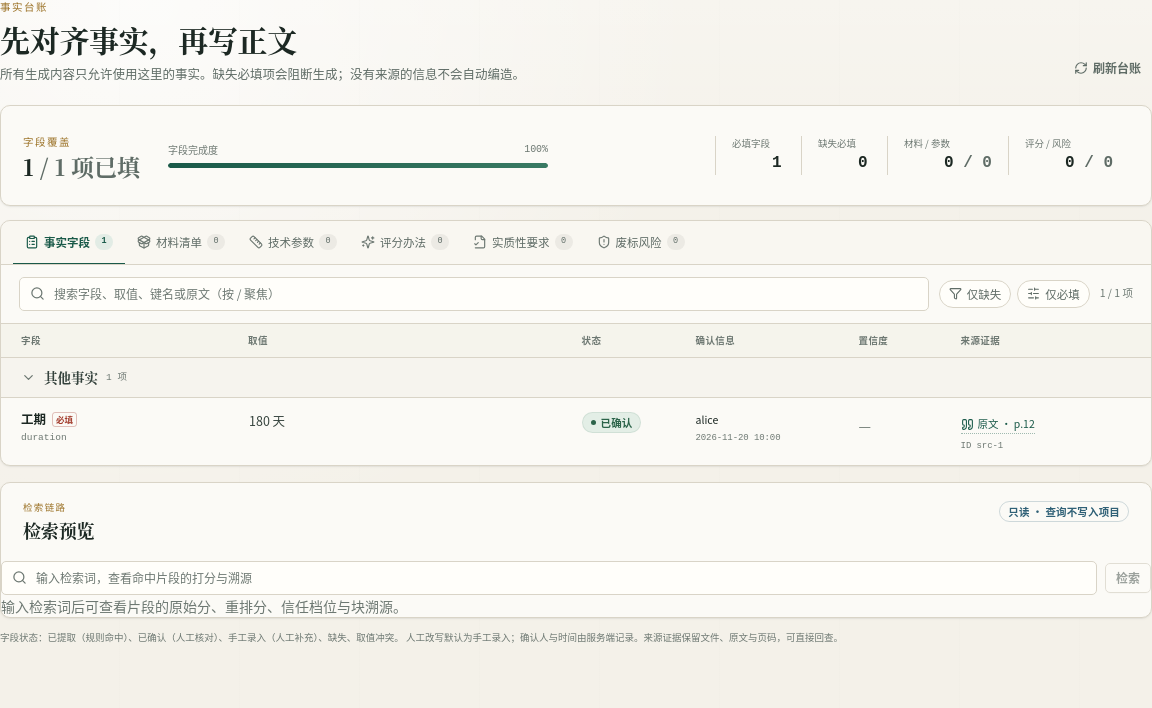
Test: LedgerTab 事实治理 › 编辑默认手工录入，要求来源证据，并把服务端盖章回写到表格
The image size is (1152, 708).
Expected: the text "工期" is shown, [21,410,46,428]
Click the button "180 天" at (267, 421), box [242,407,574,436]
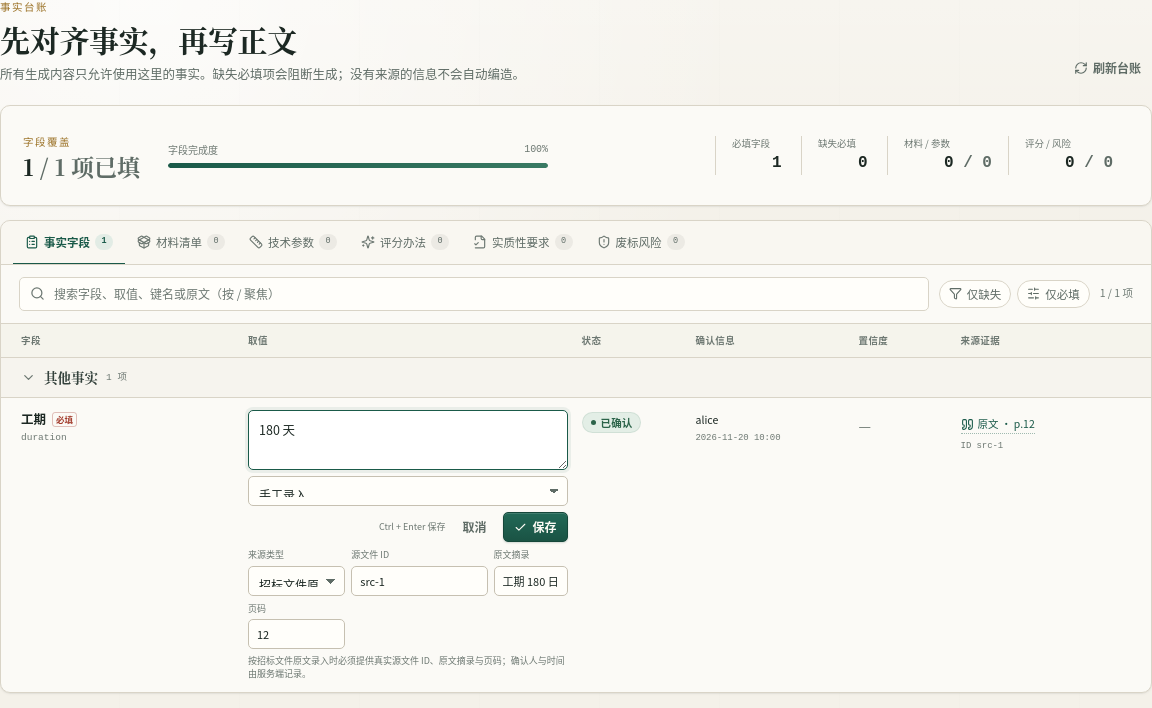
Result: the dropdown named "事实状态" shows "手工录入" at [248,476,568,506]
Result: the field named "来源文件 ID：工期" is shown at [351,566,488,596]
Result: the field named "原文摘录：工期" holds "工期 180 日历天" at [494,566,568,596]
Replace the text in the text box named "编辑工期取值" with "190 天" at (408, 440), box [248,410,568,470]
Clear the field named "原文摘录：工期" at (530, 581), box [494,566,568,596]
Clear the field named "来源文件 ID：工期" at (419, 581), box [351,566,488,596]
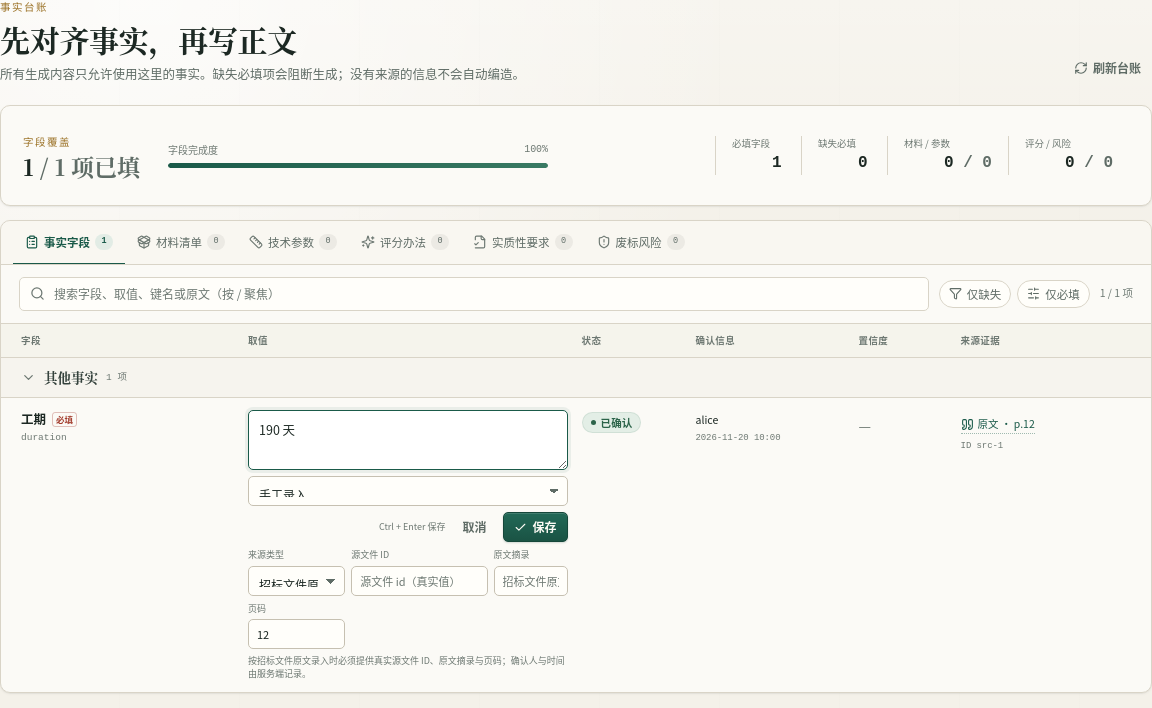
Click the button "保存" at (536, 527), box [504,512,568,542]
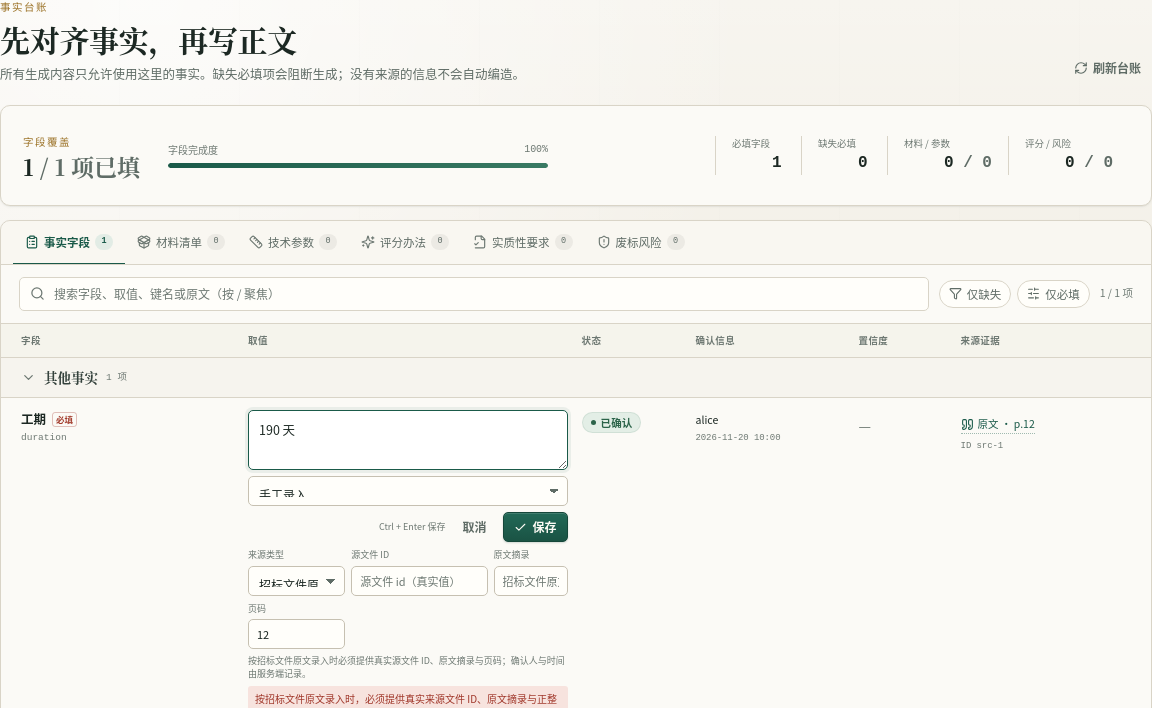
Type "工期 190 日历天" into the field named "原文摘录：工期" at (530, 581), box [494,566,568,596]
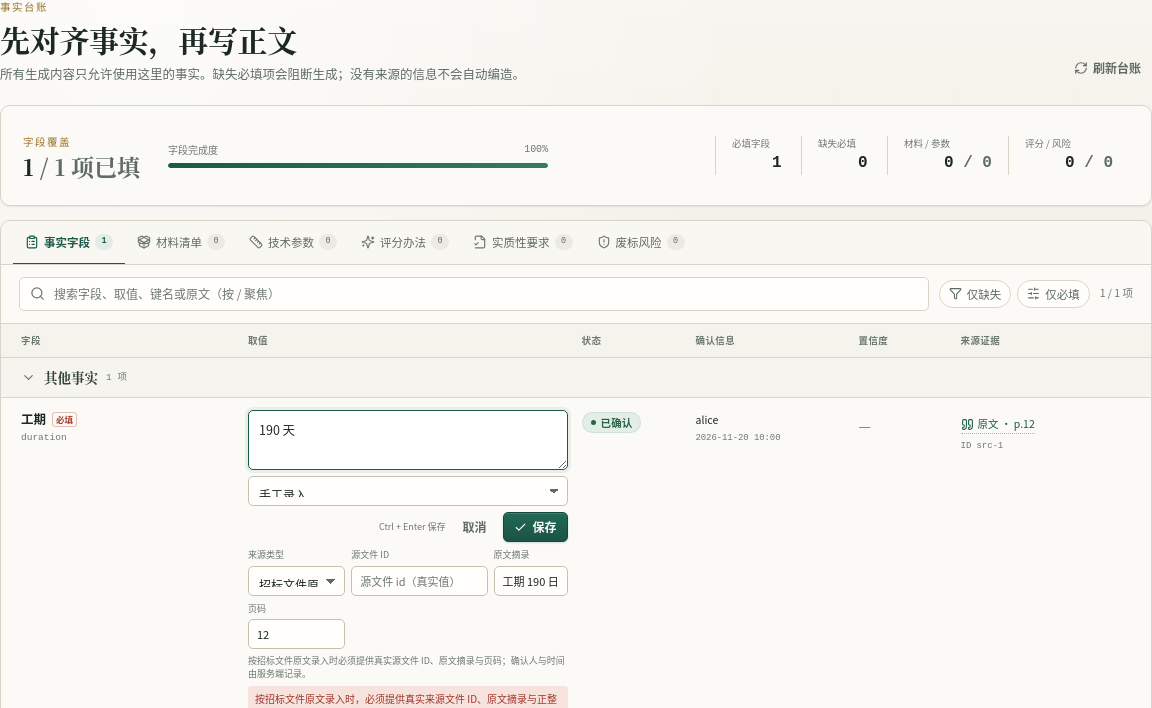
Type "src-2" into the field named "来源文件 ID：工期" at (419, 581), box [351,566,488,596]
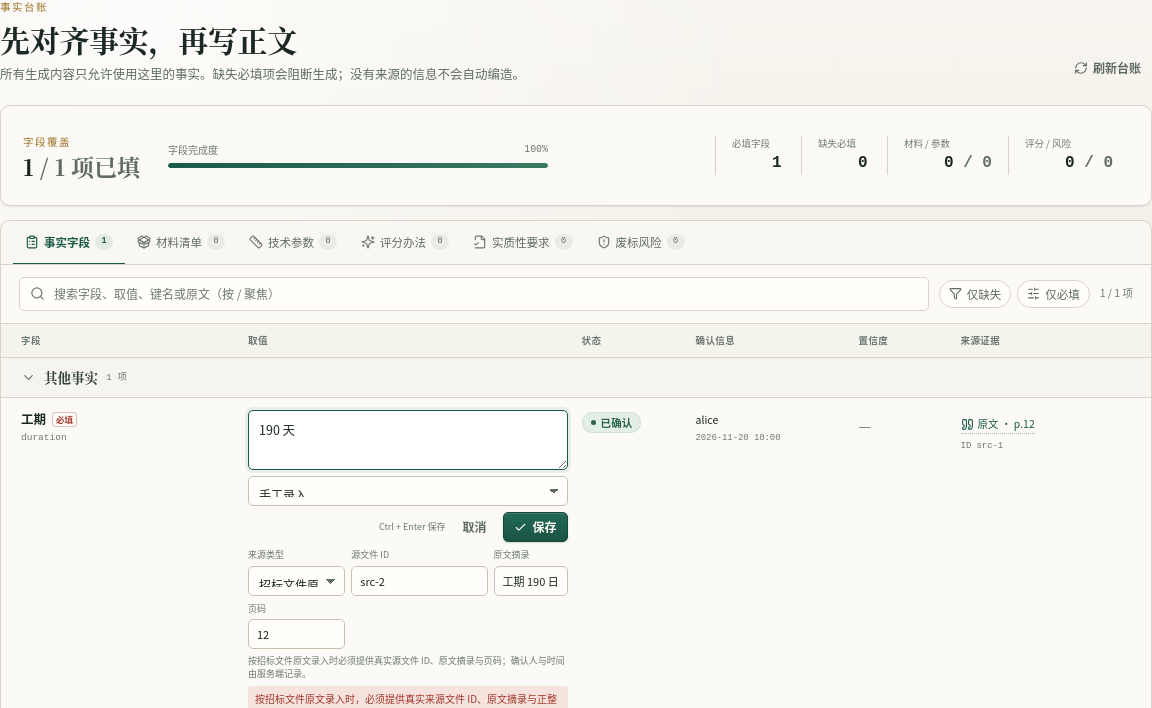
Click the button "保存" at (536, 527), box [504,512,568,542]
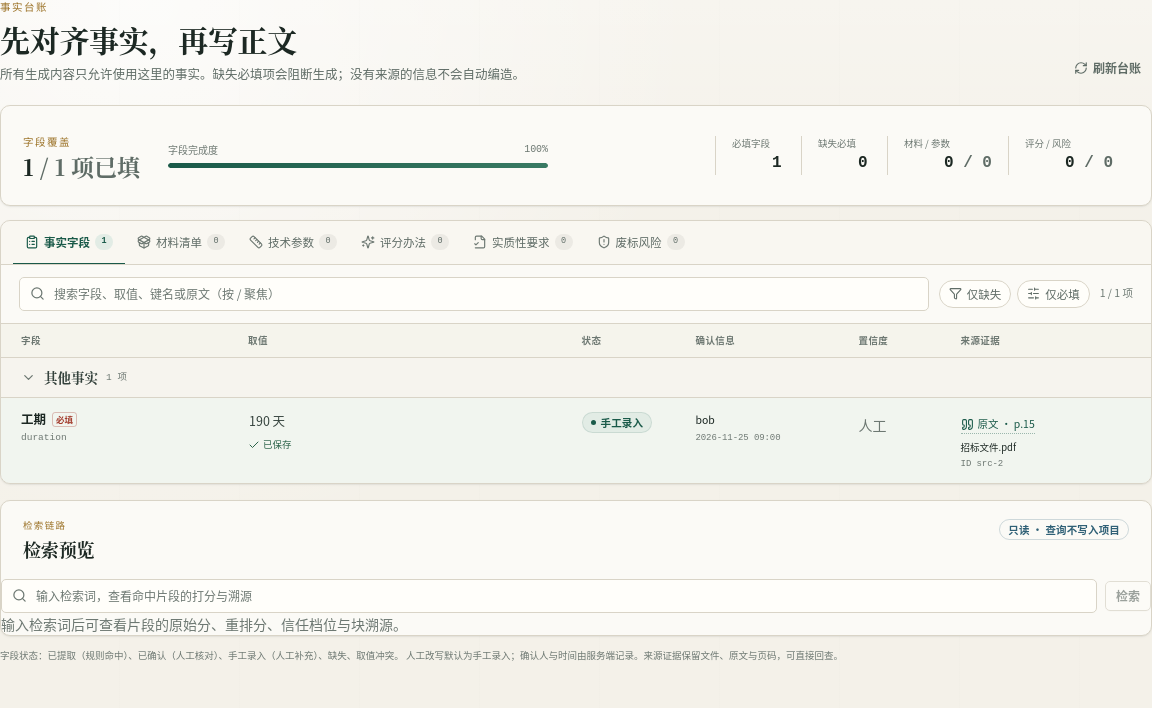
Result: the text "bob" is shown at [696,412,715,427]
Result: the text "招标文件.pdf" is shown at [961,440,1016,454]
Result: the text "ID src-2" is shown at [961,459,1003,469]
